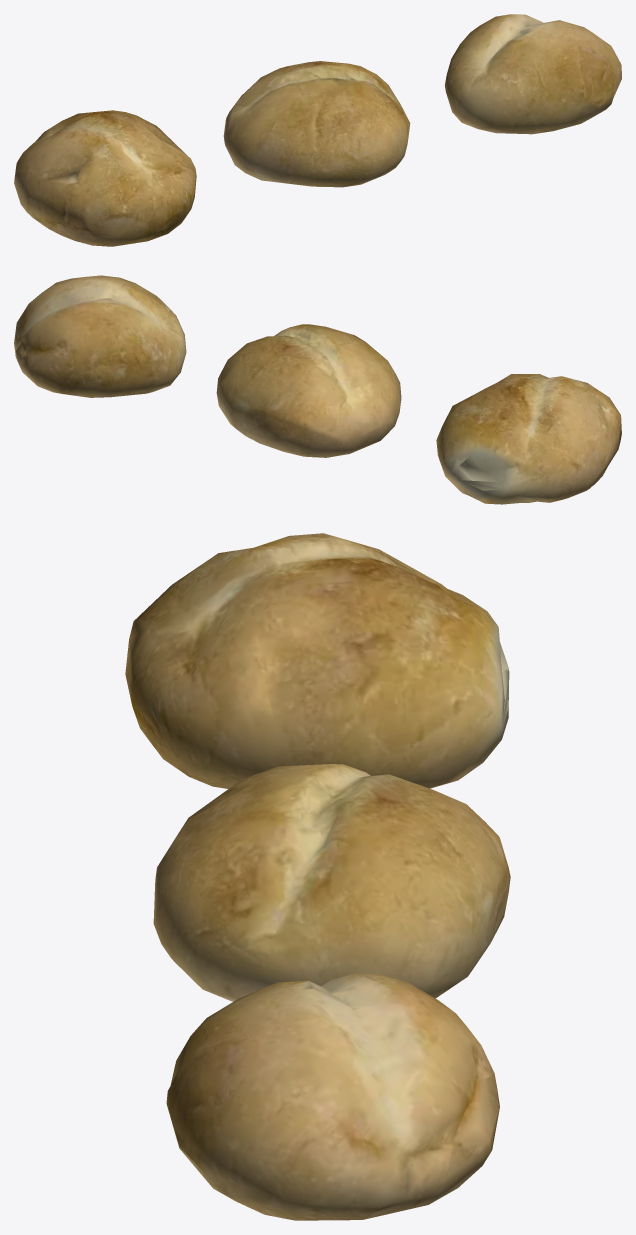
File: hamburger_buns.glb
3 views of the same model, one above another, from view 1: azimuth 30°, elevation 25°; view 2: azimuth 150°, elevation 25°; view 3: azimuth 270°, elevation 25° (orthographic). The views are drawn at different scales.
Visible parts, largest first — view 1: hamburger_buns_01, hamburger_buns_02, hamburger_buns_03; view 2: hamburger_buns_01, hamburger_buns_02, hamburger_buns_03; view 3: hamburger_buns_01, hamburger_buns_02, hamburger_buns_03.
Boxes of the visible parts, x1,y1,x2,y2 form: hamburger_buns_01: (14, 110, 196, 246); hamburger_buns_02: (223, 61, 410, 187); hamburger_buns_03: (444, 14, 621, 134); hamburger_buns_01: (436, 374, 621, 504); hamburger_buns_02: (216, 324, 401, 457); hamburger_buns_03: (14, 275, 186, 397); hamburger_buns_01: (125, 533, 509, 788); hamburger_buns_02: (153, 764, 510, 1001); hamburger_buns_03: (166, 973, 499, 1220).
Bounding box in the file's own units: 0.3966 × 0.0633 × 0.1134.
Materials: 1 (1 with a texture image).
